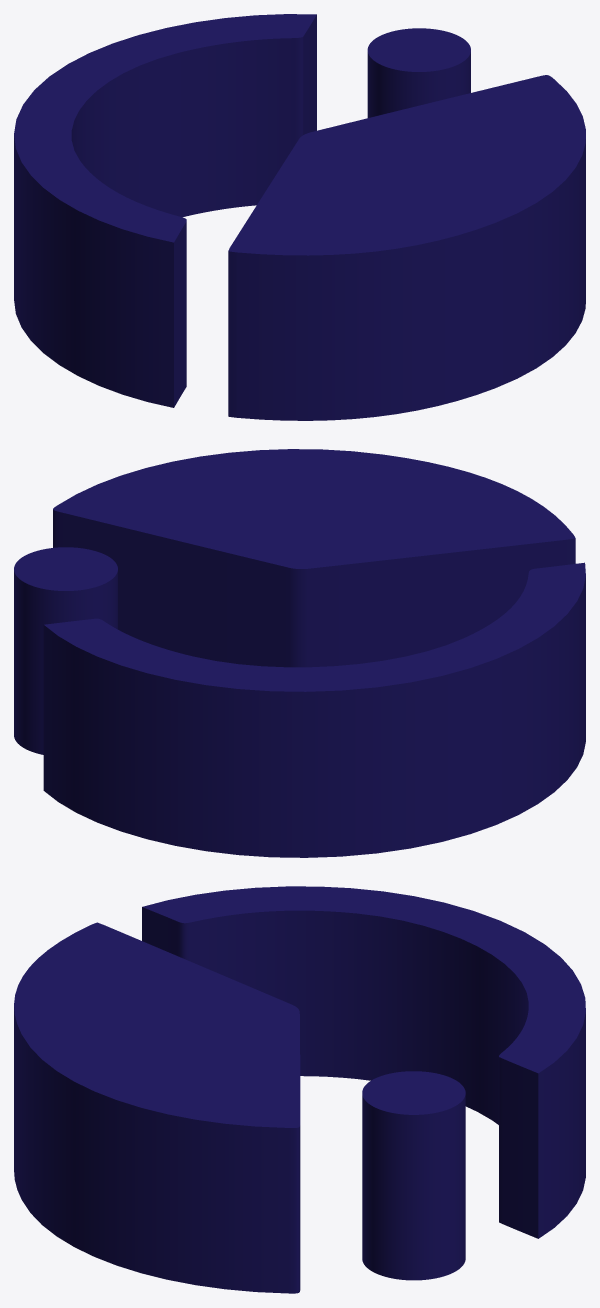
The model's file is giveth.glb.
3 renders of one model, top to bottom at view 1: azimuth 30°, elevation 25°; view 2: azimuth 150°, elevation 25°; view 3: azimuth 270°, elevation 25°, orthographic.
Visible parts, largest first — view 1: Curve; view 2: Curve; view 3: Curve.
Boxes of the visible parts, x1,y1,x2,y2 form: Curve: [14, 14, 585, 420]; Curve: [14, 449, 585, 857]; Curve: [14, 886, 585, 1293].
Bounding box in the file's own units: 0.5948 × 0.19 × 0.5951.
